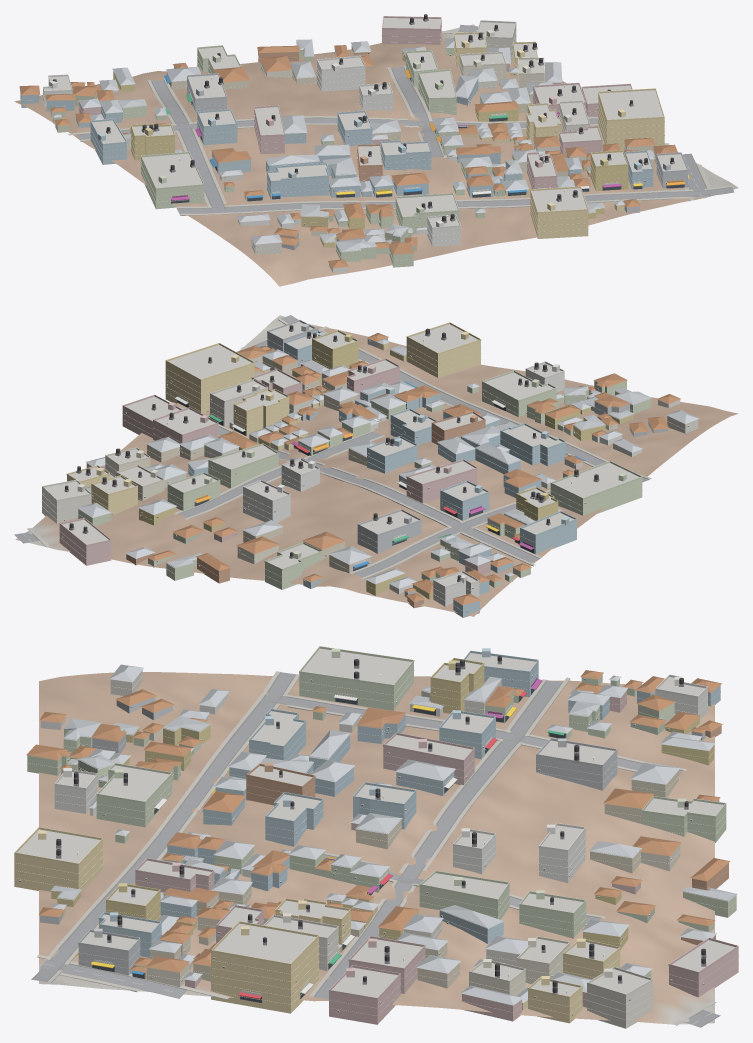
The picture shows the model from 3 angles, top to bottom: view 1: azimuth 30°, elevation 25°; view 2: azimuth 150°, elevation 25°; view 3: azimuth 270°, elevation 25°; orthographic projection. The views are drawn at different scales.
Visible parts, largest first — view 1: Buildings-col, Terrain-col, Details, Roads-col, Sidewalks-col; view 2: Buildings-col, Terrain-col, Details, Roads-col, Sidewalks-col; view 3: Buildings-col, Terrain-col, Details, Roads-col, Sidewalks-col.
Part boxes in pixels (<box>): Buildings-col: <box>19,18,687,273</box>; Terrain-col: <box>14,24,738,286</box>; Details: <box>20,14,689,260</box>; Roads-col: <box>77,24,734,213</box>; Sidewalks-col: <box>68,31,731,215</box>; Buildings-col: <box>42,321,699,617</box>; Terrain-col: <box>15,315,738,616</box>; Details: <box>42,319,698,612</box>; Roads-col: <box>14,315,648,577</box>; Sidewalks-col: <box>27,318,651,579</box>; Buildings-col: <box>14,648,738,1028</box>; Terrain-col: <box>39,672,714,1024</box>; Details: <box>14,646,738,1020</box>; Roads-col: <box>31,672,720,1027</box>; Sidewalks-col: <box>37,671,716,1025</box>.
Bounding box in the file's own units: 277 × 41.22 × 275.
